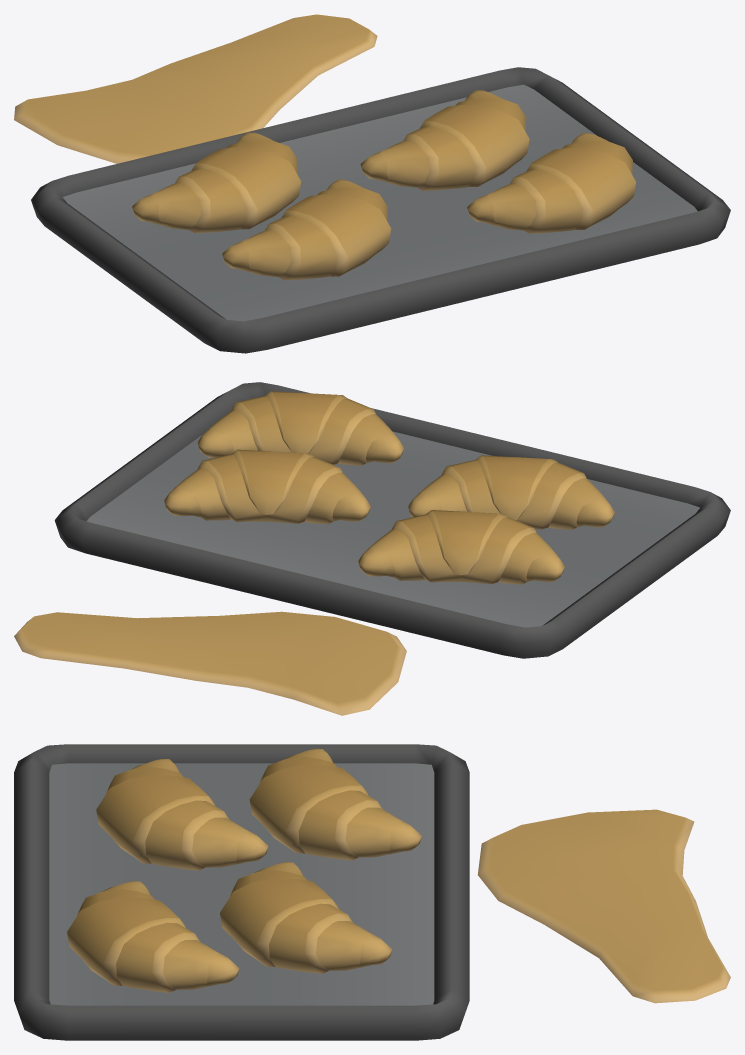
File: Station Croissant.fbx
3 renders of one model, top to bottom at view 1: azimuth 30°, elevation 25°; view 2: azimuth 150°, elevation 25°; view 3: azimuth 270°, elevation 25°, orthographic. The views are drawn at different scales.
Parts seen in each view (by area): view 1: Station_Croissant; view 2: Station_Croissant; view 3: Station_Croissant.
Boxes of the visible parts, x1,y1,x2,y2 form: Station_Croissant: [14, 14, 730, 353]; Station_Croissant: [14, 382, 730, 715]; Station_Croissant: [14, 744, 730, 1040].
Size of the model in its own units: 172 by 20.73 by 189.
